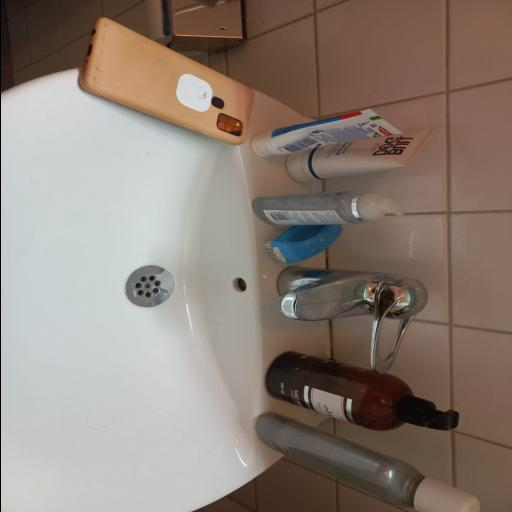phone: (80, 17, 252, 144)
